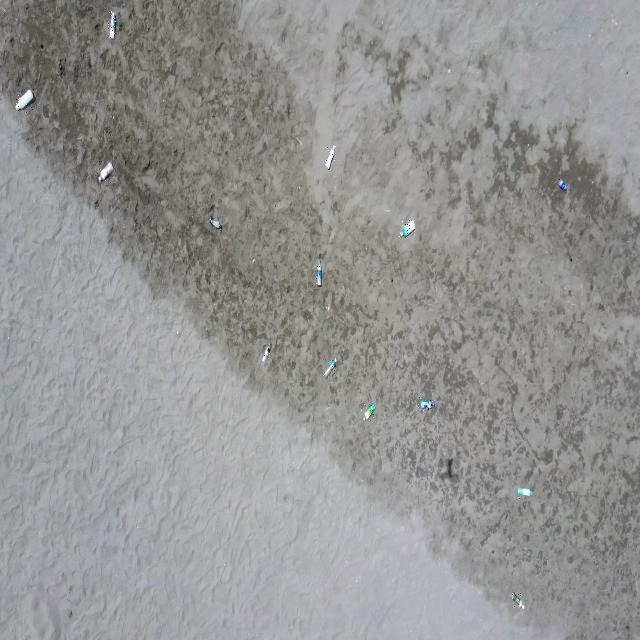Garbage: (16, 88, 33, 110), (324, 144, 335, 168), (98, 161, 111, 180), (400, 220, 415, 236), (323, 358, 335, 375), (363, 403, 375, 420), (108, 12, 116, 37), (315, 259, 322, 286), (512, 592, 524, 607), (261, 344, 270, 362), (208, 216, 220, 228), (421, 399, 436, 408), (516, 487, 532, 495), (557, 179, 567, 191), (447, 457, 452, 477)
